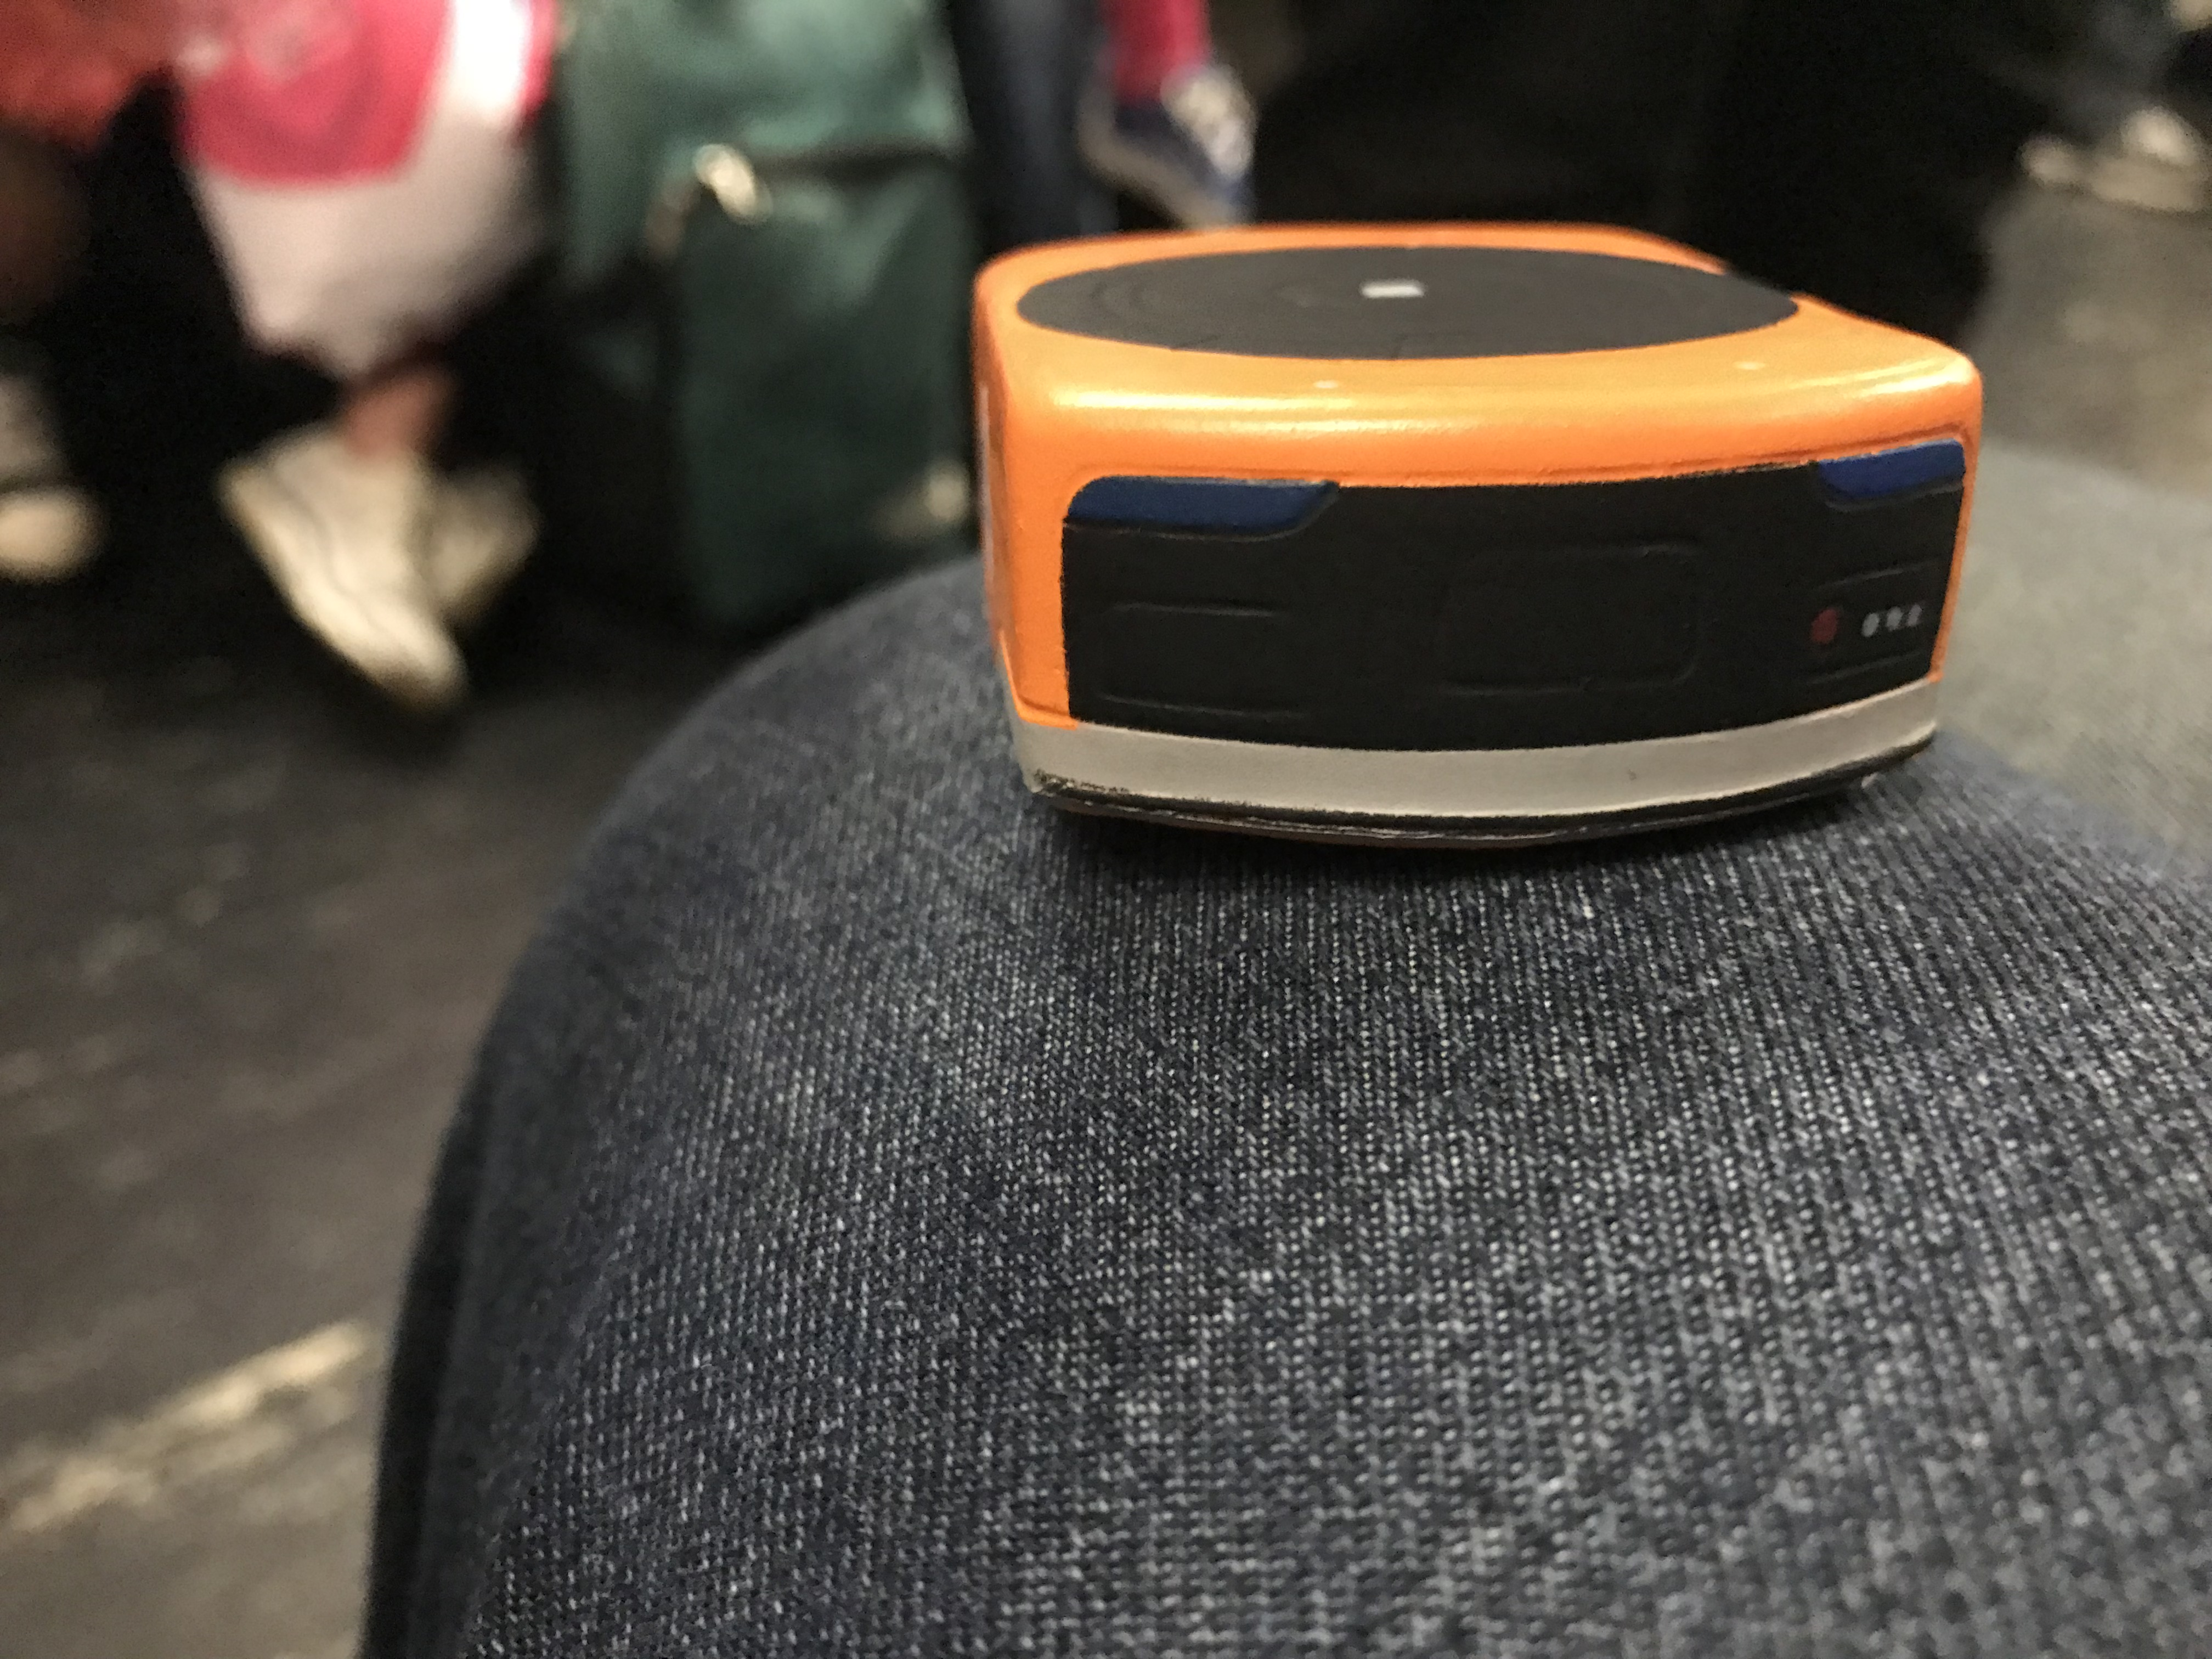amazon_bot: (934, 199, 1998, 875)
